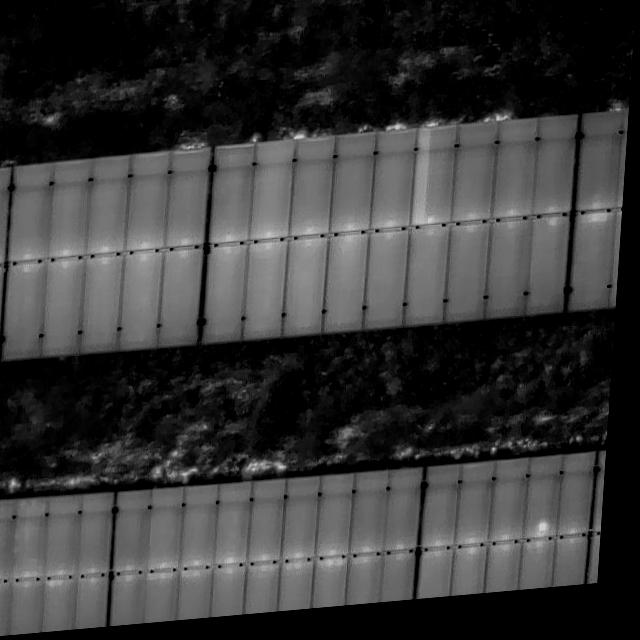Hotspot: (0, 110, 626, 359), (0, 455, 604, 640)
